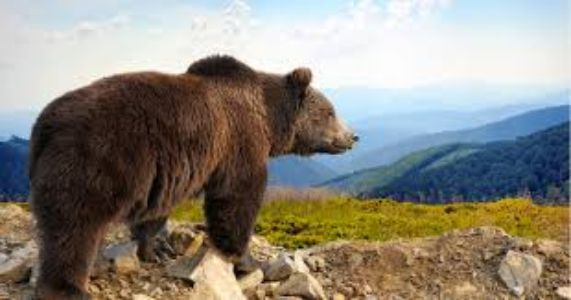bear: (24, 52, 365, 279)
